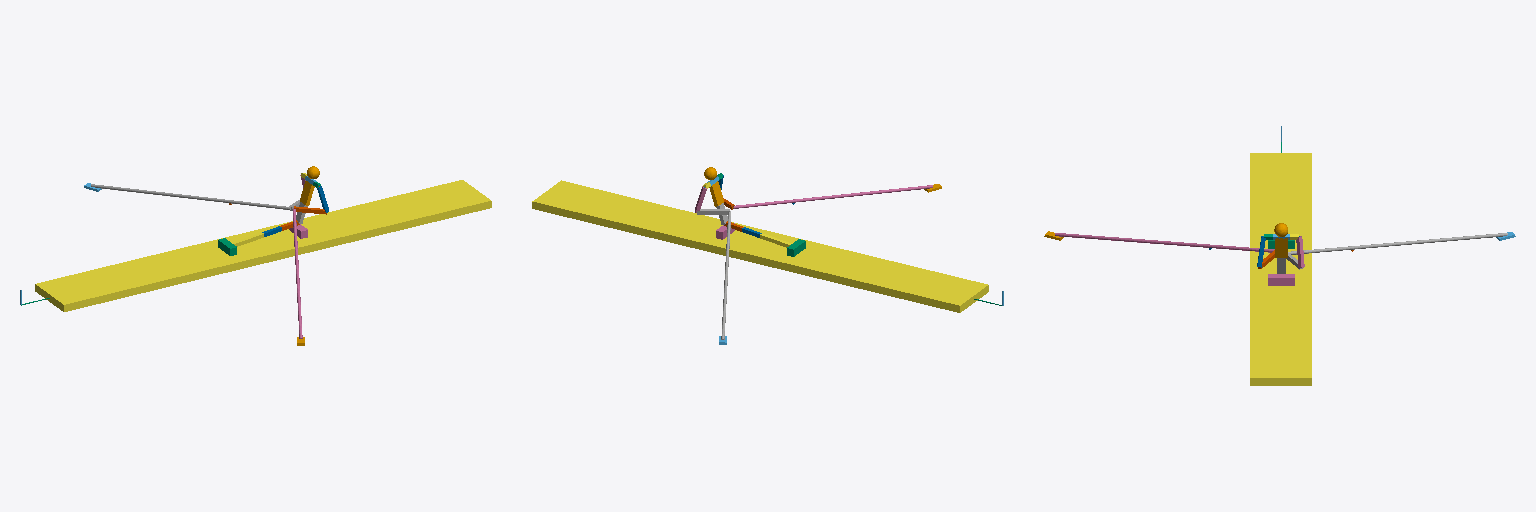
--- Facts derived from the render (not from the file) ---
Views: 3 orthographic renders of the robot side by side, from view 1: azimuth 30°, elevation 25°; view 2: azimuth 150°, elevation 25°; view 3: azimuth 270°, elevation 25°.
Model myboat with 41 links and 40 joints (31 revolute, 2 prismatic, 7 fixed), rooted at world, posed all joints at 0.
Links seen in each view (by area): view 1: skiff, port_oar_l; view 2: skiff, starboard_oar_l; view 3: skiff, starboard_oar_l, port_oar_l.
Boxes of the visible links, x1,y1,x2,y2 form: skiff: [35, 180, 491, 311]; port_oar_l: [91, 184, 290, 209]; skiff: [532, 180, 988, 312]; starboard_oar_l: [733, 185, 932, 208]; skiff: [1250, 153, 1311, 385]; starboard_oar_l: [1055, 233, 1274, 252]; port_oar_l: [1288, 233, 1507, 254].
Bounding box of the posed robot: 6.41 × 5.31 × 0.9463 m (x, y, z).
Geometry: primitives only (box / cylinder / sphere), no mesh files.

robot.urdf — myboat:
<?xml version="1.0" encoding="utf-8"?>
<!-- =================================================================================== -->
<!-- |    This document was autogenerated by xacro from boot.xacro                     | -->
<!-- |    EDITING THIS FILE BY HAND IS NOT RECOMMENDED                                 | -->
<!-- =================================================================================== -->
<robot name="myboat" xmlns:xacro="http://www.ros.org/wiki/xacro">
  <!-- ros_control plugin -->
  <gazebo>
    <plugin filename="libgazebo_ros_control.so" name="gazebo_ros_control">
      <robotNamespace>/boot</robotNamespace>
      <robotSimType>gazebo_ros_control/DefaultRobotHWSim</robotSimType>
    </plugin>
    <plugin filename="libgazebo_ros_ft_sensor.so" name="sb_rl_sensor">
      <updateRate>50.0</updateRate>
      <topicName>sb_rl_sensor</topicName>
      <jointName>starboard_rowlock</jointName>
    </plugin>
    <plugin filename="libgazebo_ros_ft_sensor.so" name="p_rl_sensor">
      <updateRate>50.0</updateRate>
      <topicName>p_rl_sensor</topicName>
      <jointName>port_rowlock</jointName>
    </plugin>
    <plugin filename="libgazebo_ros_ft_sensor.so" name="sb_oar_sensor">
      <updateRate>50.0</updateRate>
      <topicName>sb_oar_sensor</topicName>
      <jointName>starboard_oar</jointName>
    </plugin>
    <plugin filename="libgazebo_ros_ft_sensor.so" name="p_oar_sensor">
      <updateRate>50.0</updateRate>
      <topicName>p_oar_sensor</topicName>
      <jointName>port_oar</jointName>
      <noise>
        <type>gaussian</type>
        <mean>0.0</mean>
        <stddev>0.003</stddev>
        <!-- change this to simulate noise -->
      </noise>
    </plugin>
    <plugin filename="libgazebo_ros_ft_sensor.so" name="sbb_sensor">
      <updateRate>50.0</updateRate>
      <topicName>sbb_sensor</topicName>
      <jointName>starboard_blade</jointName>
    </plugin>
    <plugin filename="libgazebo_ros_ft_sensor.so" name="pb_sensor">
      <updateRate>50.0</updateRate>
      <topicName>pb_sensor</topicName>
      <jointName>port_blade</jointName>
    </plugin>
  </gazebo>
  <gazebo reference="starboard_rowlock">
    <provideFeedback>true</provideFeedback>
  </gazebo>
  <gazebo reference="port_rowlock">
    <provideFeedback>true</provideFeedback>
  </gazebo>
  <gazebo reference="starboard_oar">
    <provideFeedback>true</provideFeedback>
  </gazebo>
  <gazebo reference="port_oar">
    <provideFeedback>true</provideFeedback>
  </gazebo>
  <gazebo reference="starboard_blade">
    <provideFeedback>true</provideFeedback>
  </gazebo>
  <gazebo reference="port_blade">
    <provideFeedback>true</provideFeedback>
  </gazebo>
  <gazebo reference="skiff">
    <material>Gazebo/White</material>
    <mu1>0.01</mu1>
    <mu2>0.01</mu2>
    <collision>
      <surface>
        <friction>
          <ode>
            <slip1>0.05</slip1>
            <slip2>0.12</slip2>
          </ode>
        </friction>
      </surface>
    </collision>
  </gazebo>
  <gazebo reference="starboard_rowlock_l">
    <mu1>0.01</mu1>
    <mu2>0.01</mu2>
    <material>Gazebo/Green</material>
  </gazebo>
  <gazebo reference="port_rowlock_l">
    <mu1>0.01</mu1>
    <mu2>0.01</mu2>
    <material>Gazebo/Red</material>
    <provideFeedback>true</provideFeedback>
  </gazebo>
  <gazebo reference="starboard_oar_l">
    <mu1>0.01</mu1>
    <mu2>0.01</mu2>
    <material>Gazebo/Green</material>
    <provideFeedback>true</provideFeedback>
  </gazebo>
  <gazebo reference="port_oar_l">
    <mu1>0.01</mu1>
    <mu2>0.01</mu2>
    <material>Gazebo/Green</material>
    <provideFeedback>true</provideFeedback>
  </gazebo>
  <gazebo reference="starboard_blade_l">
    <mu1>10.0</mu1>
    <mu2>10.0</mu2>
    <material>Gazebo/Green</material>
    <provideFeedback>true</provideFeedback>
  </gazebo>
  <gazebo reference="port_blade_l">
    <mu1>10.0</mu1>
    <mu2>10.0</mu2>
    <material>Gazebo/Red</material>
    <provideFeedback>true</provideFeedback>
  </gazebo>
  <gazebo reference="voetenboord">
    <material>Gazebo/Gray</material>
  </gazebo>
  <gazebo>
    <!-- close kinematic loops in gazebo -->
    <joint name="lower12" type="fixed">
      <pose>0.25 0.0 0 0 0 0.0</pose>
      <parent>upperleg_1</parent>
      <child>upperleg_2</child>
    </joint>
    <joint name="lowerarm_left" type="fixed">
      <pose>0.0 0.0 0 0 0 0.1</pose>
      <parent>Ldummy_link_1</parent>
      <child>Ldummy_link_2</child>
    </joint>
    <joint name="lowerarm_right" type="fixed">
      <pose>0.0 0.0 0 0 0 0.1</pose>
      <parent>Rdummy_link_1</parent>
      <child>Rdummy_link_2</child>
    </joint>
  </gazebo>
  <material name="black">
    <color rgba="0.0 0.0 0.0 1.0"/>
  </material>
  <material name="blue">
    <color rgba="0.0 0.0 0.8 1.0"/>
  </material>
  <material name="green">
    <color rgba="0.0 0.8 0.0 1.0"/>
  </material>
  <material name="grey">
    <color rgba="0.2 0.2 0.2 1.0"/>
  </material>
  <material name="orange">
    <color rgba="1.0 0.423529411765 0.0392156862745 1.0"/>
  </material>
  <material name="brown">
    <color rgba="0.870588235294 0.811764705882 0.764705882353 1.0"/>
  </material>
  <material name="red">
    <color rgba="0.8 0.0 0.0 1.0"/>
  </material>
  <material name="white">
    <color rgba="1.0 1.0 1.0 1.0"/>
  </material>
  <!--
    Describes parameters of the boot model
        template version
-->
  <!--
 lengths of links, musle power?
-->
  <!-- Initial position of links that might change-->
  <joint name="prism" type="prismatic">
    <parent link="world"/>
    <child link="l1"/>
    <origin rpy="0 0 0" xyz="0 0 0.25"/>
    <dynamics damping="0.005"/>
    <axis xyz="1 0 0"/>
    <limit effort="101.0" lower="0" upper="1000" velocity="0.5"/>
  </joint>
  <joint name="rev1" type="revolute">
    <parent link="l1"/>
    <child link="l2"/>
    <origin rpy="0 1.57079632679 0" xyz="0.0 0 -0.2"/>
    <dynamics damping="0.005"/>
    <axis xyz="0 1 0"/>
    <limit effort="101.0" lower="-1" upper="1" velocity="1.0"/>
  </joint>
  <joint name="rev2" type="revolute">
    <parent link="l2"/>
    <child link="skiff"/>
    <origin rpy="3.14159265359 1.57079632679 0" xyz="0.0 0.0 0.4"/>
    <dynamics damping="0.005"/>
    <axis xyz="0 1 0"/>
    <limit effort="101.0" lower="-1" upper="1" velocity="1.0"/>
  </joint>
  <joint name="starboard_rowlock" type="revolute">
    <parent link="skiff"/>
    <child link="starboard_rowlock_l"/>
    <origin rpy="0.0  0.0 -0.4939" xyz="-3 0.8 0.27"/>
    <dynamics damping="0.005"/>
    <axis xyz="0 0 1"/>
    <limit effort="101.0" lower="-0.4" upper="1.4" velocity="1.0"/>
  </joint>
  <joint name="port_rowlock" type="revolute">
    <parent link="skiff"/>
    <child link="port_rowlock_l"/>
    <origin rpy="0.0  0.0 0.4939" xyz="-3 -0.8 0.25"/>
    <dynamics damping="0.005"/>
    <axis xyz="0 0 1"/>
    <limit effort="101.0" lower="-1.4" upper="1.4" velocity="1.0"/>
  </joint>
  <joint name="starboard_oar" type="revolute">
    <parent link="starboard_rowlock_l"/>
    <child link="starboard_oar_l"/>
    <origin rpy="0.0  1.42499632679 -1.57079632679" xyz="0.0 0.0   0.02"/>
    <dynamics damping="0.005"/>
    <axis xyz="0 1 0"/>
    <limit effort="101.0" lower="-0.4" upper="0.1" velocity="1.0"/>
  </joint>
  <joint name="port_oar" type="revolute">
    <parent link="port_rowlock_l"/>
    <child link="port_oar_l"/>
    <origin rpy="0.0  1.70669632679 -1.57079632679" xyz="0.0 0.0   0.02"/>
    <dynamics damping="0.005"/>
    <axis xyz="0 1 0"/>
    <limit effort="101.0" lower="-0.1" upper="0.4" velocity="1.0"/>
  </joint>
  <joint name="starboard_blade" type="revolute">
    <parent link="starboard_oar_l"/>
    <child link="starboard_blade_l"/>
    <origin rpy="0 0  0.0" xyz="0.0 0.0   -2.0"/>
    <dynamics damping="0.005"/>
    <axis xyz="0 1 0"/>
    <limit effort="101.0" lower="-0.4" upper="0.4" velocity="1.0"/>
  </joint>
  <joint name="port_blade" type="revolute">
    <parent link="port_oar_l"/>
    <child link="port_blade_l"/>
    <origin rpy="0.0  0 0.0" xyz="0.0 0.0   2.0"/>
    <dynamics damping="0.005"/>
    <axis xyz="0 1 0"/>
    <limit effort="101.0" lower="-0.4" upper="0.4" velocity="1.0"/>
  </joint>
  <!-- Rower joints -->
  <joint name="sk_fp" type="fixed">
    <parent link="skiff"/>
    <child link="footplate"/>
    <origin rpy="0.0  0 0.0" xyz="-2.5 0.0  0.1"/>
    <dynamics damping="0.005"/>
    <limit effort="101.0" lower="-0.4" upper="0.4" velocity="1.0"/>
  </joint>
  <joint name="sliding" type="prismatic">
    <!-- prismatic -->
    <parent link="skiff"/>
    <child link="seat"/>
    <origin rpy="0 0 0" xyz="-3.49514 0.0 0.1"/>
    <dynamics damping="0.005"/>
    <axis xyz="1 0 0"/>
    <limit effort="101.0" lower="-0.1" upper="0.8" velocity="0.5"/>
  </joint>
  <joint name="fp_ll" type="revolute">
    <parent link="footplate"/>
    <child link="lowerleg"/>
    <origin rpy="0.0  0.1001675 0.0" xyz="0.0 0.0   0.0"/>
    <dynamics damping="0.005"/>
    <axis xyz="0 1 0"/>
    <limit effort="101.0" lower="0.0" upper="1.57079632679" velocity="1.0"/>
  </joint>
  <joint name="knee" type="revolute">
    <parent link="lowerleg"/>
    <child link="upperleg_1"/>
    <origin rpy="0.0  0 0.0" xyz="-0.5 0.0   0.0"/>
    <dynamics damping="0.005"/>
    <axis xyz="0 1 0"/>
    <limit effort="1000.0" lower="-3.1" upper="0" velocity="1.0"/>
  </joint>
  <joint name="hip1" type="revolute">
    <parent link="seat"/>
    <child link="upperleg_2"/>
    <origin rpy="0  0.1001675 0.0" xyz="0.0 0.0   0.1"/>
    <dynamics damping="0.005"/>
    <axis xyz="0 1 0"/>
    <limit effort="101.0" lower="-1.6" upper="0" velocity="1.0"/>
  </joint>
  <joint name="hip2" type="revolute">
    <parent link="seat"/>
    <child link="back_low"/>
    <origin rpy="0  -1.89979632679 0.0" xyz="0.0 0.0   0.1"/>
    <dynamics damping="0.005"/>
    <axis xyz="0 1 0"/>
    <limit effort="1000.0" lower="-1.0" upper="1.0" velocity="1.0"/>
  </joint>
  <joint name="back_lh" type="revolute">
    <parent link="back_low"/>
    <child link="back_high"/>
    <origin rpy="0  0.011 0.0" xyz="0.25 0.0   0.0"/>
    <dynamics damping="0.5"/>
    <axis xyz="0 1 0"/>
    <limit effort="101.0" lower="0.0" upper="0.5" velocity="1.0"/>
  </joint>
  <joint name="shoulder" type="fixed">
    <parent link="back_high"/>
    <child link="shoulder_link"/>
    <origin rpy="0  0.0 0.0" xyz="0.3 0.0   0.0"/>
    <dynamics damping="0.5"/>
    <limit effort="101.0" lower="0.0" upper="0.5" velocity="1.0"/>
  </joint>
  <joint name="head_joint" type="fixed">
    <parent link="shoulder_link"/>
    <child link="head"/>
    <origin rpy="0  0.0 0.0" xyz="0.2 0.0   0.0"/>
  </joint>
  <!-- Left branch from starboard_oar to shoulder_left -->
  <!-- 3D handle joint left -->
  <joint name="handle_left_j1" type="revolute">
    <parent link="starboard_oar_l"/>
    <child link="handle_left_l1"/>
    <origin rpy="0.1425 0 1.57079632679" xyz="0 0.0 0.87"/>
    <dynamics damping="0.005"/>
    <axis xyz="1 0 0"/>
    <limit effort="101.0" lower="-1" upper="1" velocity="1.0"/>
  </joint>
  <link name="handle_left_l1">
    <inertial>
      <mass value="0.01"/>
      <origin rpy="0 0 0" xyz="0 0.0 0.0"/>
      <inertia ixx="0.000000167" ixy="0" ixz="0" iyy="0.000000167" iyz="0" izz="0.000000167"/>
    </inertial>
    <visual>
      <origin rpy="0 0 0" xyz="0.0 0.0 0.0"/>
      <geometry>
        <box size="0.01 0.01 0.01"/>
      </geometry>
    </visual>
  </link>
  <joint name="handle_left_j2" type="revolute">
    <parent link="handle_left_l1"/>
    <child link="handle_left_l2"/>
    <origin rpy="0 0 0.0807" xyz="0 0.0 0.0"/>
    <dynamics damping="0.005"/>
    <axis xyz="0 0 1"/>
    <limit effort="101.0" lower="-1" upper="1" velocity="1.0"/>
  </joint>
  <link name="handle_left_l2">
    <inertial>
      <mass value="0.01"/>
      <origin rpy="0 0 0" xyz="0 0.0 0.0"/>
      <inertia ixx="0.000000167" ixy="0" ixz="0" iyy="0.000000167" iyz="0" izz="0.000000167"/>
    </inertial>
    <visual>
      <origin rpy="0 0 0" xyz="0.0 0.0 0.0"/>
      <geometry>
        <box size="0.01 0.01 0.01"/>
      </geometry>
    </visual>
  </link>
  <joint name="handle_left_j3" type="revolute">
    <parent link="handle_left_l2"/>
    <child link="arm_l_lower"/>
    <origin rpy="0 -0.0503 0" xyz="0 0.0 0.0"/>
    <dynamics damping="0.005"/>
    <axis xyz="0 1 0"/>
    <limit effort="101.0" lower="-1" upper="1" velocity="1.0"/>
  </joint>
  <!-- 3D joint left elbow -->
  <joint name="elbow_left" type="revolute">
    <parent link="arm_l_lower"/>
    <child link="left_elbow_psi_link"/>
    <origin rpy="0 0 -1.9207" xyz="-0.4 0.0 0.0"/>
    <dynamics damping="0.5"/>
    <axis xyz="0 0 1"/>
    <limit effort="101.0" lower="-1.0" upper="1.0" velocity="1.0"/>
  </joint>
  <link name="left_elbow_psi_link">
    <inertial>
      <mass value="0.01"/>
      <origin rpy="0 0 0" xyz="0 0.0 0.0"/>
      <inertia ixx="0.000000167" ixy="0" ixz="0" iyy="0.000000167" iyz="0" izz="0.000000167"/>
    </inertial>
    <visual>
      <origin rpy="0 0 0" xyz="0.0 0.0 0.0"/>
      <geometry>
        <box size="0.01 0.01 0.01"/>
      </geometry>
    </visual>
  </link>
  <joint name="elbow_theta_l" type="revolute">
    <parent link="left_elbow_psi_link"/>
    <child link="left_elbow_theta_link"/>
    <origin rpy="0.0 0.0003  0.0" xyz="-0.0 0.0  0.0"/>
    <axis xyz="0 1 0"/>
    <dynamics damping="0.5"/>
    <limit effort="101.0" lower="-0.7" upper="2.0" velocity="1.0"/>
  </joint>
  <link name="left_elbow_theta_link">
    <inertial>
      <mass value="0.01"/>
      <origin rpy="0 0 0" xyz="0 0.0 0.0"/>
      <inertia ixx="0.000000167" ixy="0" ixz="0" iyy="0.000000167" iyz="0" izz="0.000000167"/>
    </inertial>
    <visual>
      <origin rpy="0 0 0" xyz="0.0 0.0 0.0"/>
      <geometry>
        <box size="0.01 0.01 0.01"/>
      </geometry>
    </visual>
  </link>
  <joint name="elbow_xx_l" type="revolute">
    <parent link="left_elbow_theta_link"/>
    <child link="arm_l_upper"/>
    <origin rpy="0.9796 0.0  0.0" xyz="-0.0 0.0  0.0"/>
    <axis xyz="1 0 0"/>
    <dynamics damping="0.5"/>
    <limit effort="101.0" lower="-0.7" upper="2.0" velocity="1.0"/>
  </joint>
  <!-- 3D joint left shoulder -->
  <joint name="shoulder_theta_l" type="revolute">
    <parent link="arm_l_upper"/>
    <child link="left_shoulder_psi_link"/>
    <origin rpy="0 0.5435 0" xyz="-0.35 0.0 0.0"/>
    <axis xyz="0 1 0"/>
    <dynamics damping="0.005"/>
    <limit effort="101.0" lower="-1.0" upper="1.0" velocity="1.0"/>
  </joint>
  <link name="left_shoulder_psi_link">
    <inertial>
      <mass value="0.01"/>
      <origin rpy="0 0 0" xyz="0 0.0 0.0"/>
      <inertia ixx="0.000000167" ixy="0" ixz="0" iyy="0.000000167" iyz="0" izz="0.000000167"/>
    </inertial>
    <visual>
      <origin rpy="0 0 0" xyz="0.0 0.0 0.0"/>
      <geometry>
        <box size="0.01 0.01 0.01"/>
      </geometry>
    </visual>
  </link>
  <joint name="shoulder_psi_l" type="revolute">
    <parent link="left_shoulder_psi_link"/>
    <child link="left_shoulder_xx_link"/>
    <origin rpy="-0.0182 0.0 0.0" xyz="0.0 0.0   0.0"/>
    <axis xyz="1 0 0"/>
    <dynamics damping="0.005"/>
    <limit effort="101.0" lower="-1.0" upper="1.0" velocity="1.0"/>
  </joint>
  <link name="left_shoulder_xx_link">
    <inertial>
      <mass value="0.01"/>
      <origin rpy="0 0 0" xyz="0 0.0 0.0"/>
      <inertia ixx="0.000000167" ixy="0" ixz="0" iyy="0.000000167" iyz="0" izz="0.000000167"/>
    </inertial>
    <visual>
      <origin rpy="0 0 0" xyz="0.0 0.0 0.0"/>
      <geometry>
        <box size="0.01 0.01 0.01"/>
      </geometry>
    </visual>
  </link>
  <joint name="shoulder_l" type="revolute">
    <parent link="left_shoulder_xx_link"/>
    <child link="shoulder_left"/>
    <origin rpy="0.0 0.0 0.1516" xyz="0.0 0.0   0.0"/>
    <axis xyz="0 0 1"/>
    <dynamics damping="0.005"/>
    <limit effort="101.0" lower="-1.0" upper="1.0" velocity="1.0"/>
  </joint>
  <joint name="Ldummy_2" type="fixed">
    <parent link="shoulder_left"/>
    <child link="Ldummy_link_2"/>
    <origin rpy="0 0 3.14159265359 " xyz="0.0 0.1 0.0"/>
    <dynamics damping="0.005"/>
    <limit effort="101.0" lower="-1.0" upper="1.0" velocity="1.0"/>
  </joint>
  <link name="Ldummy_link_2">
    <inertial>
      <mass value="0.01"/>
      <origin rpy="0 0 0" xyz="0 0.0 0.0"/>
      <inertia ixx="0.000000167" ixy="0" ixz="0" iyy="0.000000167" iyz="0" izz="0.000000167"/>
    </inertial>
    <visual>
      <origin rpy="0 0 0" xyz="0.0 0.0 0.0"/>
      <geometry>
        <box size="0.01 0.01 0.01"/>
      </geometry>
    </visual>
  </link>
  <!-- in gazebo here the joint that closes the left loop -->
  <joint name="Ldummy_1" type="fixed">
    <parent link="shoulder_link"/>
    <child link="Ldummy_link_1"/>
    <origin rpy="0 0 0.0" xyz="0.0 0.1 0.0"/>
    <dynamics damping="0.005"/>
    <limit effort="101.0" lower="-1.0" upper="1.0" velocity="1.0"/>
  </joint>
  <link name="Ldummy_link_1">
    <inertial>
      <mass value="0.01"/>
      <origin rpy="0 0 0" xyz="0 0.0 0.0"/>
      <inertia ixx="0.000000167" ixy="0" ixz="0" iyy="0.000000167" iyz="0" izz="0.000000167"/>
    </inertial>
    <visual>
      <origin rpy="0 0 0" xyz="0.0 0.0 0.0"/>
      <geometry>
        <box size="0.01 0.01 0.01"/>
      </geometry>
    </visual>
  </link>
  <!-- Right branch from port_oar to shoulder_right -->
  <!-- 3D handle joint right-->
  <joint name="handle_right_j1" type="revolute">
    <parent link="port_oar_l"/>
    <child link="handle_right_l1"/>
    <origin rpy="-0.0496 0 1.57079632679" xyz="0 0.0 -0.87"/>
    <dynamics damping="0.005"/>
    <axis xyz="-1 0 0"/>
    <limit effort="101.0" lower="-1" upper="1" velocity="1.0"/>
  </joint>
  <link name="handle_right_l1">
    <inertial>
      <mass value="0.01"/>
      <origin rpy="0 0 0" xyz="0 0.0 0.0"/>
      <inertia ixx="0.000000167" ixy="0" ixz="0" iyy="0.000000167" iyz="0" izz="0.000000167"/>
    </inertial>
    <visual>
      <origin rpy="0 0 0" xyz="0.0 0.0 0.0"/>
      <geometry>
        <box size="0.01 0.01 0.01"/>
      </geometry>
    </visual>
  </link>
  <joint name="handle_right_j2" type="revolute">
    <parent link="handle_right_l1"/>
    <child link="handle_right_l2"/>
    <origin rpy="0 0 0.0074" xyz="0 0.0 0.0"/>
    <dynamics damping="0.005"/>
    <axis xyz="0 0 1"/>
    <limit effort="101.0" lower="-1" upper="1" velocity="1.0"/>
  </joint>
  <link name="handle_right_l2">
    <inertial>
      <mass value="0.01"/>
      <origin rpy="0 0 0" xyz="0 0.0 0.0"/>
      <inertia ixx="0.000000167" ixy="0" ixz="0" iyy="0.000000167" iyz="0" izz="0.000000167"/>
    </inertial>
    <visual>
      <origin rpy="0 0 0" xyz="0.0 0.0 0.0"/>
      <geometry>
        <box size="0.01 0.01 0.01"/>
      </geometry>
    </visual>
  </link>
  <joint name="handle_right_j3" type="revolute">
    <parent link="handle_right_l2"/>
    <child link="arm_r_lower"/>
    <origin rpy="0 -0.0084 0" xyz="0 0.0 0.0"/>
    <dynamics damping="0.005"/>
    <axis xyz="0 -1 0"/>
    <limit effort="101.0" lower="-1" upper="1" velocity="1.0"/>
  </joint>
  <!-- 3D joint right elbow -->
  <joint name="elbow_right" type="revolute">
    <parent link="arm_r_lower"/>
    <child link="right_elbow_psi_link"/>
    <origin rpy="0 0 1.2894" xyz="-0.4 0.0 0.0"/>
    <dynamics damping="0.5"/>
    <axis xyz="0 0 1"/>
    <limit effort="101.0" lower="-1.0" upper="1.0" velocity="1.0"/>
  </joint>
  <link name="right_elbow_psi_link">
    <inertial>
      <mass value="0.01"/>
      <origin rpy="0 0 0" xyz="0 0.0 0.0"/>
      <inertia ixx="0.000000167" ixy="0" ixz="0" iyy="0.000000167" iyz="0" izz="0.000000167"/>
    </inertial>
    <visual>
      <origin rpy="0 0 0" xyz="0.0 0.0 0.0"/>
      <geometry>
        <box size="0.01 0.01 0.01"/>
      </geometry>
    </visual>
  </link>
  <joint name="elbow_theta_r" type="revolute">
    <parent link="right_elbow_psi_link"/>
    <child link="right_elbow_theta_link"/>
    <origin rpy="0.0 0.0288  0.0" xyz="0.0 0.0  0.0"/>
    <axis xyz="0 1 0"/>
    <dynamics damping="0.5"/>
    <limit effort="101.0" lower="-2.0" upper="1.0" velocity="1.0"/>
  </joint>
  <link name="right_elbow_theta_link">
    <inertial>
      <mass value="0.01"/>
      <origin rpy="0 0 0" xyz="0 0.0 0.0"/>
      <inertia ixx="0.000000167" ixy="0" ixz="0" iyy="0.000000167" iyz="0" izz="0.000000167"/>
    </inertial>
    <visual>
      <origin rpy="0 0 0" xyz="0.0 0.0 0.0"/>
      <geometry>
        <box size="0.01 0.01 0.01"/>
      </geometry>
    </visual>
  </link>
  <joint name="elbow_xx_r" type="revolute">
    <parent link="right_elbow_theta_link"/>
    <child link="arm_r_upper"/>
    <origin rpy="0.2775 0.0  0.0" xyz="0.0 0.0  0.0"/>
    <axis xyz="-1 0 0"/>
    <dynamics damping="0.5"/>
    <limit effort="101.0" lower="-1.0" upper="2.0" velocity="1.0"/>
  </joint>
  <!-- 3D joint right shoulder -->
  <joint name="shoulder_theta_r" type="revolute">
    <parent link="arm_r_upper"/>
    <child link="right_shoulder_psi_link"/>
    <origin rpy="3.14159265359 0.7384 0" xyz="0.35 0.0 0.0"/>
    <axis xyz="0 -1 0"/>
    <dynamics damping="0.5"/>
    <limit effort="101.0" lower="-1.0" upper="1.0" velocity="1.0"/>
  </joint>
  <link name="right_shoulder_psi_link">
    <inertial>
      <mass value="0.01"/>
      <origin rpy="0 0 0" xyz="0 0.0 0.0"/>
      <inertia ixx="0.000000167" ixy="0" ixz="0" iyy="0.000000167" iyz="0" izz="0.000000167"/>
    </inertial>
    <visual>
      <origin rpy="0 0 0" xyz="0.0 0.0 0.0"/>
      <geometry>
        <box size="0.01 0.01 0.01"/>
      </geometry>
    </visual>
  </link>
  <joint name="shoulder_psi_r" type="revolute">
    <parent link="right_shoulder_psi_link"/>
    <child link="right_shoulder_xx_link"/>
    <origin rpy="3.7462 0.0 0.0" xyz="0.0 0.0   0.0"/>
    <axis xyz="1 0 0"/>
    <dynamics damping="0.005"/>
    <limit effort="101.0" lower="-1.0" upper="1.0" velocity="1.0"/>
  </joint>
  <link name="right_shoulder_xx_link">
    <inertial>
      <mass value="0.01"/>
      <origin rpy="0 0 0" xyz="0 0.0 0.0"/>
      <inertia ixx="0.000000167" ixy="0" ixz="0" iyy="0.000000167" iyz="0" izz="0.000000167"/>
    </inertial>
    <visual>
      <origin rpy="0 0 0" xyz="0.0 0.0 0.0"/>
      <geometry>
        <box size="0.01 0.01 0.01"/>
      </geometry>
    </visual>
  </link>
  <joint name="shoulder_r" type="revolute">
    <parent link="right_shoulder_xx_link"/>
    <child link="shoulder_right"/>
    <origin rpy="0.0 0  0.5698" xyz="0.0 -0.0   0.0"/>
    <axis xyz="0 0 1"/>
    <dynamics damping="0.005"/>
    <limit effort="101.0" lower="-1.0" upper="1.0" velocity="1.0"/>
  </joint>
  <joint name="Rdummy_2" type="fixed">
    <parent link="shoulder_right"/>
    <child link="Rdummy_link_2"/>
    <origin rpy="3.14159265359 0  0.0" xyz="0.0 -0.1 0.0"/>
    <dynamics damping="0.005"/>
    <limit effort="101.0" lower="-1.0" upper="1.0" velocity="1.0"/>
  </joint>
  <link name="Rdummy_link_2">
    <inertial>
      <mass value="0.01"/>
      <origin rpy="0 0 0" xyz="0 0.0 0.0"/>
      <inertia ixx="0.000000167" ixy="0" ixz="0" iyy="0.000000167" iyz="0" izz="0.000000167"/>
    </inertial>
    <visual>
      <origin rpy="0 0 0" xyz="0.0 0.0 0.0"/>
      <geometry>
        <box size="0.01 0.01 0.01"/>
      </geometry>
    </visual>
  </link>
  <!-- in gazebo here the joint that closes the right loop -->
  <joint name="Rdummy_1" type="fixed">
    <parent link="shoulder_link"/>
    <child link="Rdummy_link_1"/>
    <origin rpy="0 0 0.0" xyz="0.0 -0.1 0.0"/>
    <dynamics damping="0.005"/>
    <limit effort="101.0" lower="-1.0" upper="1.0" velocity="1.0"/>
  </joint>
  <link name="Rdummy_link_1">
    <inertial>
      <mass value="0.01"/>
      <origin rpy="0 0 0" xyz="0 0.0 0.0"/>
      <inertia ixx="0.000000167" ixy="0" ixz="0" iyy="0.000000167" iyz="0" izz="0.000000167"/>
    </inertial>
    <visual>
      <origin rpy="0 0 0" xyz="0.0 0.0 0.0"/>
      <geometry>
        <box size="0.01 0.01 0.01"/>
      </geometry>
    </visual>
  </link>
  <!-- Boat links -->
  <link name="world"/>
  <link name="l1">
    <inertial>
      <mass value="0.01"/>
      <origin rpy="0 0 0" xyz="0 0.0 -0.1"/>
      <inertia ixx="0.000033" ixy="0" ixz="0" iyy="0.000033" iyz="0" izz="0.000000167"/>
    </inertial>
    <visual>
      <origin rpy="0 0 0" xyz="0.0 0.0 -0.1"/>
      <geometry>
        <box size="0.01 0.01 0.20"/>
      </geometry>
    </visual>
  </link>
  <link name="l2">
    <inertial>
      <mass value="0.01"/>
      <origin rpy="0 0 0" xyz="0 0.0 0.2"/>
      <inertia ixx="0.000133" ixy="0" ixz="0" iyy="000133" iyz="0" izz="0.000000167"/>
    </inertial>
    <visual>
      <origin rpy="0 0 0" xyz="0.0 0.0 0.2"/>
      <geometry>
        <box size="0.01 0.01 0.40"/>
      </geometry>
    </visual>
  </link>
  <link name="skiff">
    <inertial>
      <mass value="85"/>
      <!-- boat plus roeier -->
      <origin rpy="0 0 0" xyz="-3 0.0 0.00"/>
      <inertia ixx="3.2" ixy="0" ixz="0" iyy="225" iyz="0" izz="228"/>
      <!-- weight= 60 -->
      <!--      <inertia ixx="0.6" ixy="0" ixz="0" iyy="11" iyz="0" izz="11.8"/>  -->
    </inertial>
    <collision>
      <origin rpy="0 0 0" xyz="-3 0.0   0.00"/>
      <geometry>
        <box size="6.0 0.7 0.1"/>
      </geometry>
    </collision>
    <visual>
      <!-- should be a nice skull shape including riggers-->
      <origin rpy="0 0 0" xyz="-3 0.0   0.00"/>
      <geometry>
        <box size="6.0 0.7 0.1"/>
      </geometry>
    </visual>
  </link>
  <link name="starboard_rowlock_l">
    <inertial>
      <mass value="0.1"/>
      <origin rpy="0 0 0" xyz="0.0 0.0 0.0"/>
      <inertia ixx="0.000017" ixy="0" ixz="0" iyy="0.000017" iyz="0" izz="0.000007"/>
    </inertial>
    <collision>
      <origin rpy="0 0 0" xyz="0.0 0.0   0.0"/>
      <geometry>
        <box size="0.02 0.02 0.04"/>
      </geometry>
    </collision>
    <visual>
      <origin rpy="0 0 0" xyz="0.0 0.0   0.0"/>
      <geometry>
        <box size="0.02 0.02 0.04"/>
      </geometry>
    </visual>
  </link>
  <link name="port_rowlock_l">
    <inertial>
      <mass value="0.1"/>
      <origin rpy="0 0 0" xyz="0.0 0.0 0.0"/>
      <inertia ixx="0.000017" ixy="0" ixz="0" iyy="0.000017" iyz="0" izz="0.000007"/>
    </inertial>
    <collision>
      <origin rpy="0 0 0" xyz="0.0 0.0   0.0"/>
      <geometry>
        <box size="0.02 0.02 0.04"/>
      </geometry>
    </collision>
    <visual>
      <origin rpy="0 0 0" xyz="0.0 0.0   0.0"/>
      <geometry>
        <box size="0.02 0.02 0.04"/>
      </geometry>
    </visual>
  </link>
  <link name="starboard_oar_l">
    <inertial>
      <mass value="1.0"/>
      <origin rpy="0 0 0" xyz="0 0 -0.565"/>
      <inertia ixx="0.6" ixy="0" ixz="0" iyy="0.6" iyz="0" izz="0.0002"/>
    </inertial>
    <collision>
      <origin rpy="0 0 0" xyz="0   0   -0.565"/>
      <geometry>
        <cylinder length="2.27" radius="0.02"/>
      </geometry>
    </collision>
    <visual>
      <origin rpy="0 0 0" xyz="0   0.0   -0.565"/>
      <geometry>
        <cylinder length="2.87" radius="0.02"/>
      </geometry>
    </visual>
  </link>
  <link name="port_oar_l">
    <inertial>
      <mass value="1.0"/>
      <origin rpy="0 0 0" xyz="0 0 0.565"/>
      <inertia ixx="0.6" ixy="0" ixz="0" iyy="0.6" iyz="0" izz="0.0002"/>
    </inertial>
    <collision>
      <origin rpy="0 0 0" xyz="0   0   0.565"/>
      <geometry>
        <cylinder length="2.27" radius="0.02"/>
        <!-- -0.6 to prevent collissions  -->
      </geometry>
    </collision>
    <visual>
      <origin rpy="0 0 0" xyz="0   0   0.565"/>
      <geometry>
        <cylinder length="2.87" radius="0.02"/>
      </geometry>
    </visual>
  </link>
  <link name="starboard_blade_l">
    <inertial>
      <mass value="1.0"/>
      <origin rpy="0 -1.4 0" xyz="0.02 0 -0.02"/>
      <inertia ixx="0.0009" ixy="0" ixz="0" iyy="0.0034" iyz="0" izz="0.004"/>
    </inertial>
    <collision>
      <origin rpy="0 -1.4 0" xyz="0.02    0   -0.02"/>
      <geometry>
        <box size="0.2 0.1 0.03"/>
      </geometry>
    </collision>
    <visual>
      <origin rpy="0 -1.4 0" xyz="0.02    0   -0.02"/>
      <geometry>
        <box size="0.2 0.1 0.03"/>
      </geometry>
    </visual>
  </link>
  <link name="port_blade_l">
    <inertial>
      <mass value="1.0"/>
      <origin rpy="0 1.4 0" xyz="0.02 0 -0.02"/>
      <inertia ixx="0.0009" ixy="0" ixz="0" iyy="0.0034" iyz="0" izz="0.004"/>
    </inertial>
    <collision>
      <origin rpy="0 1.4 0" xyz="0.02    0   -0.02"/>
      <geometry>
        <box size="0.2 0.1 0.03"/>
      </geometry>
    </collision>
    <visual>
      <origin rpy="0 1.4 0" xyz="0.02    0.0  -0.02"/>
      <geometry>
        <box size="0.2 0.1 0.03"/>
      </geometry>
    </visual>
  </link>
  <!-- Rower links -->
  <link name="footplate">
    <inertial>
      <mass value="0.1"/>
      <origin rpy="0 0 0" xyz="0 0.0 0.0"/>
      <inertia ixx="0.0008" ixy="0" ixz="0" iyy="0.000166" iyz="0" izz="0.0008"/>
    </inertial>
    <collision>
      <origin rpy="0 0 0" xyz="0 0.0   0.0"/>
      <geometry>
        <box size="0.1 0.3 0.1"/>
      </geometry>
    </collision>
    <visual>
      <origin rpy="0 0 0" xyz="0  0.0   0.0"/>
      <geometry>
        <box size="0.1 0.3 0.1"/>
      </geometry>
    </visual>
  </link>
  <link name="lowerleg">
    <inertial>
      <mass value="1.0"/>
      <origin rpy="0 0 0" xyz="-0.25 0.0 0.0"/>
      <inertia ixx="0.00041" ixy="0" ixz="0" iyy="0.021" iyz="0" izz="0.021"/>
    </inertial>
    <collision>
      <origin rpy="0 0 0" xyz="-0.25 0.0   0.0"/>
      <geometry>
        <box size="0.5 0.05 0.05"/>
      </geometry>
    </collision>
    <visual>
      <origin rpy="0 0 0" xyz="-0.25 0.0   0.0"/>
      <geometry>
        <box size="0.5 0.05 0.05"/>
      </geometry>
    </visual>
  </link>
  <!-- upperleg split into two parts to avoid a kinematic loop in the urdf
       the loop will be close in gazebo -->
  <link name="upperleg_1">
    <inertial>
      <mass value="1.0"/>
      <origin rpy="0 0 0" xyz="-0.125 0.0 0.0"/>
      <inertia ixx="0.00041" ixy="0" ixz="0" iyy="0.0054" iyz="0" izz="0.0054"/>
    </inertial>
    <collision>
      <origin rpy="0 0 0" xyz="-0.125  0.0   0.0"/>
      <geometry>
        <box size="0.25 0.05 0.05"/>
      </geometry>
    </collision>
    <visual>
      <origin rpy="0 0 0" xyz="-0.125   0.0   0.0"/>
      <geometry>
        <box size="0.25 0.05 0.05"/>
      </geometry>
    </visual>
  </link>
  <link name="upperleg_2">
    <inertial>
      <mass value="1.0"/>
      <origin rpy="0 0 0" xyz="0.125 0.0 0.0"/>
      <inertia ixx="0.00041" ixy="0" ixz="0" iyy="0.0054" iyz="0" izz="0.0054"/>
    </inertial>
    <collision>
      <origin rpy="0 0 0" xyz="0.125  0.0   0.0"/>
      <geometry>
        <box size="0.25 0.05 0.05"/>
      </geometry>
    </collision>
    <visual>
      <origin rpy="0 0 0" xyz="0.125 0.0   0.0"/>
      <geometry>
        <box size="0.25 0.05 0.05"/>
      </geometry>
    </visual>
  </link>
  <link name="seat">
    <inertial>
      <mass value="0.1"/>
      <origin rpy="0 0 0" xyz="0.0 0.0 0.0"/>
      <inertia ixx="0.001" ixy="0" ixz="0" iyy="0.0005" iyz="0" izz="0.001"/>
    </inertial>
    <collision>
      <origin rpy="0 0 0" xyz="0.0 0.0   0.0"/>
      <geometry>
        <box size="0.1 0.3 0.1"/>
      </geometry>
    </collision>
    <visual>
      <origin rpy="0 0 0" xyz="0.0 0.0   0.0"/>
      <geometry>
        <box size="0.1 0.3 0.1"/>
      </geometry>
    </visual>
  </link>
  <link name="back_low">
    <inertial>
      <mass value="10.0"/>
      <origin rpy="0 0 0" xyz="0.125 0.0 0.0"/>
      <inertia ixx="0.01" ixy="0" ixz="0" iyy="0.054" iyz="0" izz="0.06"/>
    </inertial>
    <collision>
      <origin rpy="0 0 0" xyz="0.125  0.0   0.0"/>
      <geometry>
        <box size="0.25 0.1 0.05"/>
      </geometry>
    </collision>
    <visual>
      <origin rpy="0 0 0" xyz="0.125 0.0   0.0"/>
      <geometry>
        <box size="0.25 0.1 0.05"/>
      </geometry>
    </visual>
  </link>
  <link name="back_high">
    <inertial>
      <mass value="10.0"/>
      <origin rpy="0 0 0" xyz="0.15 0.0 0.0"/>
      <inertia ixx="0.02" ixy="0" ixz="0" iyy="0.077" iyz="0" izz="0.094"/>
    </inertial>
    <collision>
      <origin rpy="0 0 0" xyz="0.15  0.0   0.0"/>
      <geometry>
        <box size="0.3 0.15 0.05"/>
      </geometry>
    </collision>
    <visual>
      <origin rpy="0 0 0" xyz="0.15 0.0   0.0"/>
      <geometry>
        <box size="0.3 0.15 0.05"/>
      </geometry>
    </visual>
  </link>
  <!-- Shoulder in 3 parts to break the kinematic loops -->
  <link name="shoulder_link">
    <inertial>
      <mass value="1.0"/>
      <origin rpy="0 0 0" xyz="0.0 0.0 0.0"/>
      <inertia ixx="0.013" ixy="0" ixz="0" iyy="0.0004" iyz="0" izz="0.013"/>
    </inertial>
    <collision>
      <origin rpy="0 0 0" xyz="0.0  0.0   0.0"/>
      <geometry>
        <box size="0.05 0.2 0.05"/>
      </geometry>
    </collision>
    <visual>
      <origin rpy="0 0 0" xyz="0.0 0.0   0.0"/>
      <geometry>
        <box size="0.05 0.2 0.05"/>
      </geometry>
    </visual>
  </link>
  <link name="shoulder_left">
    <inertial>
      <mass value="1.0"/>
      <origin rpy="0 0 0" xyz="0.0 0.05 0.0"/>
      <inertia ixx="0.001" ixy="0" ixz="0" iyy="0.0004" iyz="0" izz="0.001"/>
    </inertial>
    <collision>
      <origin rpy="0 0 0" xyz="0.0  0.05   0.0"/>
      <geometry>
        <box size="0.05 0.1 0.05"/>
      </geometry>
    </collision>
    <visual>
      <origin rpy="0 0 0" xyz="0.0 0.05   0.0"/>
      <geometry>
        <box size="0.05 0.1 0.05"/>
      </geometry>
    </visual>
  </link>
  <link name="shoulder_right">
    <inertial>
      <mass value="1.0"/>
      <origin rpy="0 0 0" xyz="0.0 -0.05 0.0"/>
      <inertia ixx="0.001" ixy="0" ixz="0" iyy="0.0004" iyz="0" izz="0.001"/>
    </inertial>
    <collision>
      <origin rpy="0 0 0" xyz="0.0  -0.05   0.0"/>
      <geometry>
        <box size="0.05 0.1 0.05"/>
      </geometry>
    </collision>
    <visual>
      <origin rpy="0 0 0" xyz="0.0 -0.05   0.0"/>
      <geometry>
        <box size="0.05 0.1 0.05"/>
      </geometry>
    </visual>
  </link>
  <link name="arm_l_upper">
    <inertial>
      <mass value="1.0"/>
      <origin rpy="0 0 0" xyz="-0.175 0.0 0.0"/>
      <inertia ixx="0.00041" ixy="0" ixz="0" iyy="0.01" iyz="0" izz="0.01"/>
    </inertial>
    <collision>
      <origin rpy="0 0 0" xyz="-0.175 0.0   0.0"/>
      <geometry>
        <box size="0.35 0.05 0.05"/>
      </geometry>
    </collision>
    <visual>
      <origin rpy="0 0 0" xyz="-0.175 0.0   0.0"/>
      <geometry>
        <box size="0.35 0.05 0.05"/>
      </geometry>
    </visual>
  </link>
  <link name="arm_l_lower">
    <inertial>
      <mass value="1.0"/>
      <origin rpy="0 0 0" xyz="-0.2 0.0 0.0"/>
      <inertia ixx="0.00041" ixy="0" ixz="0" iyy="0.0135" iyz="0" izz="0.0135"/>
    </inertial>
    <collision>
      <origin rpy="0 0 0" xyz="-0.2 0.0   0.0"/>
      <geometry>
        <box size="0.40 0.05 0.05"/>
      </geometry>
    </collision>
    <visual>
      <origin rpy="0 0 0" xyz="-0.2 0.0   0.0"/>
      <geometry>
        <box size="0.40 0.05 0.05"/>
      </geometry>
    </visual>
  </link>
  <link name="arm_r_upper">
    <inertial>
      <mass value="1.0"/>
      <origin rpy="0 0 0" xyz="0.175 0.0 0.0"/>
      <inertia ixx="0.0004" ixy="0" ixz="0" iyy="0.01" iyz="0" izz="0.01"/>
    </inertial>
    <collision>
      <origin rpy="0 0 0" xyz="0.175 0.0   0.0"/>
      <geometry>
        <box size="0.35 0.05 0.05"/>
      </geometry>
    </collision>
    <visual>
      <origin rpy="0 0 0" xyz="0.175 0.0   0.0"/>
      <geometry>
        <box size="0.35 0.05 0.05"/>
      </geometry>
    </visual>
  </link>
  <link name="arm_r_lower">
    <inertial>
      <mass value="1.0"/>
      <origin rpy="0 0 0" xyz="-0.2 0.0 0.0"/>
      <inertia ixx="0.0004" ixy="0" ixz="0" iyy="0.0035" iyz="0" izz="0.0035"/>
    </inertial>
    <collision>
      <origin rpy="0 0 0" xyz="-0.2 0.0   0.0"/>
      <geometry>
        <box size="0.40 0.05 0.05"/>
      </geometry>
    </collision>
    <visual>
      <origin rpy="0 0 0" xyz="-0.2 0.0   0.0"/>
      <geometry>
        <box size="0.40 0.05 0.05"/>
      </geometry>
    </visual>
  </link>
  <link name="head">
    <inertial>
      <mass value="5.0"/>
      <origin rpy="0 0 0" xyz="-0.1 0.0 0.0"/>
      <inertia ixx="0.0128" ixy="0" ixz="0" iyy="0.0128" iyz="0" izz="0.0128"/>
    </inertial>
    <collision>
      <origin rpy="0 0 0" xyz="-0.1 0.0   0.0"/>
      <geometry>
        <sphere radius="0.08"/>
      </geometry>
    </collision>
    <visual>
      <origin rpy="0 0 0" xyz="-0.1 0.0   0.0"/>
      <geometry>
        <sphere radius="0.08"/>
      </geometry>
    </visual>
  </link>
  <!-- Boat transmissions -->
  <transmission name="tran1">
    <type>transmission_interface/SimpleTransmission</type>
    <joint name="starboard_rowlock">
      <hardwareInterface>hardware_interface/EffortJointInterface</hardwareInterface>
    </joint>
    <actuator name="motor1">
      <mechanicalReduction>1</mechanicalReduction>
    </actuator>
  </transmission>
  <transmission name="tran2">
    <type>transmission_interface/SimpleTransmission</type>
    <joint name="port_rowlock">
      <hardwareInterface>hardware_interface/EffortJointInterface</hardwareInterface>
    </joint>
    <actuator name="motor2">
      <mechanicalReduction>1</mechanicalReduction>
    </actuator>
  </transmission>
  <transmission name="tran3">
    <type>transmission_interface/SimpleTransmission</type>
    <joint name="starboard_oar">
      <hardwareInterface>hardware_interface/EffortJointInterface</hardwareInterface>
    </joint>
    <actuator name="motor3">
      <mechanicalReduction>1</mechanicalReduction>
    </actuator>
  </transmission>
  <transmission name="tran4">
    <type>transmission_interface/SimpleTransmission</type>
    <joint name="port_oar">
      <hardwareInterface>hardware_interface/EffortJointInterface</hardwareInterface>
    </joint>
    <actuator name="motor4">
      <mechanicalReduction>1</mechanicalReduction>
    </actuator>
  </transmission>
  <transmission name="tran5">
    <type>transmission_interface/SimpleTransmission</type>
    <joint name="starboard_blade">
      <hardwareInterface>hardware_interface/EffortJointInterface</hardwareInterface>
    </joint>
    <actuator name="motor5">
      <mechanicalReduction>1</mechanicalReduction>
    </actuator>
  </transmission>
  <transmission name="tran6">
    <type>transmission_interface/SimpleTransmission</type>
    <joint name="port_blade">
      <hardwareInterface>hardware_interface/EffortJointInterface</hardwareInterface>
    </joint>
    <actuator name="motor6">
      <mechanicalReduction>1</mechanicalReduction>
    </actuator>
  </transmission>
  <!-- Rower transmissions -->
  <transmission name="tran7">
    <type>transmission_interface/SimpleTransmission</type>
    <joint name="knee">
      <hardwareInterface>hardware_interface/EffortJointInterface</hardwareInterface>
    </joint>
    <actuator name="motor7">
      <mechanicalReduction>1</mechanicalReduction>
    </actuator>
  </transmission>
  <transmission name="tran8">
    <type>transmission_interface/SimpleTransmission</type>
    <joint name="hip1">
      <hardwareInterface>hardware_interface/EffortJointInterface</hardwareInterface>
    </joint>
    <actuator name="motor8">
      <mechanicalReduction>1</mechanicalReduction>
    </actuator>
  </transmission>
  <transmission name="tran9">
    <type>transmission_interface/SimpleTransmission</type>
    <joint name="hip2">
      <hardwareInterface>hardware_interface/EffortJointInterface</hardwareInterface>
    </joint>
    <actuator name="motor9">
      <mechanicalReduction>1</mechanicalReduction>
    </actuator>
  </transmission>
  <transmission name="tran10">
    <type>transmission_interface/SimpleTransmission</type>
    <joint name="back_lh">
      <hardwareInterface>hardware_interface/EffortJointInterface</hardwareInterface>
    </joint>
    <actuator name="motor10">
      <mechanicalReduction>1</mechanicalReduction>
    </actuator>
  </transmission>
  <transmission name="tran11">
    <type>transmission_interface/SimpleTransmission</type>
    <joint name="shoulder_l">
      <hardwareInterface>hardware_interface/EffortJointInterface</hardwareInterface>
    </joint>
    <actuator name="motor11">
      <mechanicalReduction>1</mechanicalReduction>
    </actuator>
  </transmission>
  <transmission name="tran12">
    <type>transmission_interface/SimpleTransmission</type>
    <joint name="shoulder_psi_l">
      <hardwareInterface>hardware_interface/EffortJointInterface</hardwareInterface>
    </joint>
    <actuator name="motor12">
      <mechanicalReduction>1</mechanicalReduction>
    </actuator>
  </transmission>
  <transmission name="tran13">
    <type>transmission_interface/SimpleTransmission</type>
    <joint name="shoulder_theta_l">
      <hardwareInterface>hardware_interface/EffortJointInterface</hardwareInterface>
    </joint>
    <actuator name="motor13">
      <mechanicalReduction>1</mechanicalReduction>
    </actuator>
  </transmission>
  <transmission name="tran14">
    <type>transmission_interface/SimpleTransmission</type>
    <joint name="elbow_theta_l">
      <hardwareInterface>hardware_interface/EffortJointInterface</hardwareInterface>
    </joint>
    <actuator name="motor14">
      <mechanicalReduction>1</mechanicalReduction>
    </actuator>
  </transmission>
  <transmission name="tran15">
    <type>transmission_interface/SimpleTransmission</type>
    <joint name="elbow_left">
      <hardwareInterface>hardware_interface/EffortJointInterface</hardwareInterface>
    </joint>
    <actuator name="motor15">
      <mechanicalReduction>1</mechanicalReduction>
    </actuator>
  </transmission>
  <transmission name="tran16">
    <type>transmission_interface/SimpleTransmission</type>
    <joint name="handle_left_j1">
      <hardwareInterface>hardware_interface/EffortJointInterface</hardwareInterface>
    </joint>
    <actuator name="motor16">
      <mechanicalReduction>1</mechanicalReduction>
    </actuator>
  </transmission>
  <transmission name="tran17">
    <type>transmission_interface/SimpleTransmission</type>
    <joint name="handle_left_j2">
      <hardwareInterface>hardware_interface/EffortJointInterface</hardwareInterface>
    </joint>
    <actuator name="motor17">
      <mechanicalReduction>1</mechanicalReduction>
    </actuator>
  </transmission>
  <transmission name="tran18">
    <type>transmission_interface/SimpleTransmission</type>
    <joint name="handle_left_j3">
      <hardwareInterface>hardware_interface/EffortJointInterface</hardwareInterface>
    </joint>
    <actuator name="motor18">
      <mechanicalReduction>1</mechanicalReduction>
    </actuator>
  </transmission>
  <transmission name="tran19">
    <type>transmission_interface/SimpleTransmission</type>
    <joint name="shoulder_r">
      <hardwareInterface>hardware_interface/EffortJointInterface</hardwareInterface>
    </joint>
    <actuator name="motor19">
      <mechanicalReduction>1</mechanicalReduction>
    </actuator>
  </transmission>
  <transmission name="tran20">
    <type>transmission_interface/SimpleTransmission</type>
    <joint name="shoulder_psi_r">
      <hardwareInterface>hardware_interface/EffortJointInterface</hardwareInterface>
    </joint>
    <actuator name="motor20">
      <mechanicalReduction>1</mechanicalReduction>
    </actuator>
  </transmission>
  <transmission name="tran21">
    <type>transmission_interface/SimpleTransmission</type>
    <joint name="shoulder_theta_r">
      <hardwareInterface>hardware_interface/EffortJointInterface</hardwareInterface>
    </joint>
    <actuator name="motor21">
      <mechanicalReduction>1</mechanicalReduction>
    </actuator>
  </transmission>
  <transmission name="tran22">
    <type>transmission_interface/SimpleTransmission</type>
    <joint name="elbow_theta_r">
      <hardwareInterface>hardware_interface/EffortJointInterface</hardwareInterface>
    </joint>
    <actuator name="motor22">
      <mechanicalReduction>1</mechanicalReduction>
    </actuator>
  </transmission>
  <transmission name="tran23">
    <type>transmission_interface/SimpleTransmission</type>
    <joint name="elbow_right">
      <hardwareInterface>hardware_interface/EffortJointInterface</hardwareInterface>
    </joint>
    <actuator name="motor23">
      <mechanicalReduction>1</mechanicalReduction>
    </actuator>
  </transmission>
  <transmission name="tran24">
    <type>transmission_interface/SimpleTransmission</type>
    <joint name="handle_right_j1">
      <hardwareInterface>hardware_interface/EffortJointInterface</hardwareInterface>
    </joint>
    <actuator name="motor24">
      <mechanicalReduction>1</mechanicalReduction>
    </actuator>
  </transmission>
  <transmission name="tran25">
    <type>transmission_interface/SimpleTransmission</type>
    <joint name="handle_right_j2">
      <hardwareInterface>hardware_interface/EffortJointInterface</hardwareInterface>
    </joint>
    <actuator name="motor25">
      <mechanicalReduction>1</mechanicalReduction>
    </actuator>
  </transmission>
  <transmission name="tran26">
    <type>transmission_interface/SimpleTransmission</type>
    <joint name="handle_right_j3">
      <hardwareInterface>hardware_interface/EffortJointInterface</hardwareInterface>
    </joint>
    <actuator name="motor26">
      <mechanicalReduction>1</mechanicalReduction>
    </actuator>
  </transmission>
</robot>
